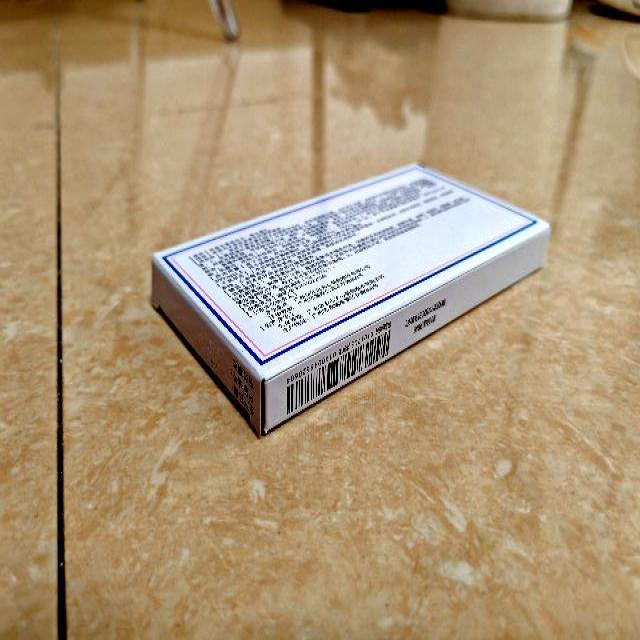box: (151, 163, 551, 437)
